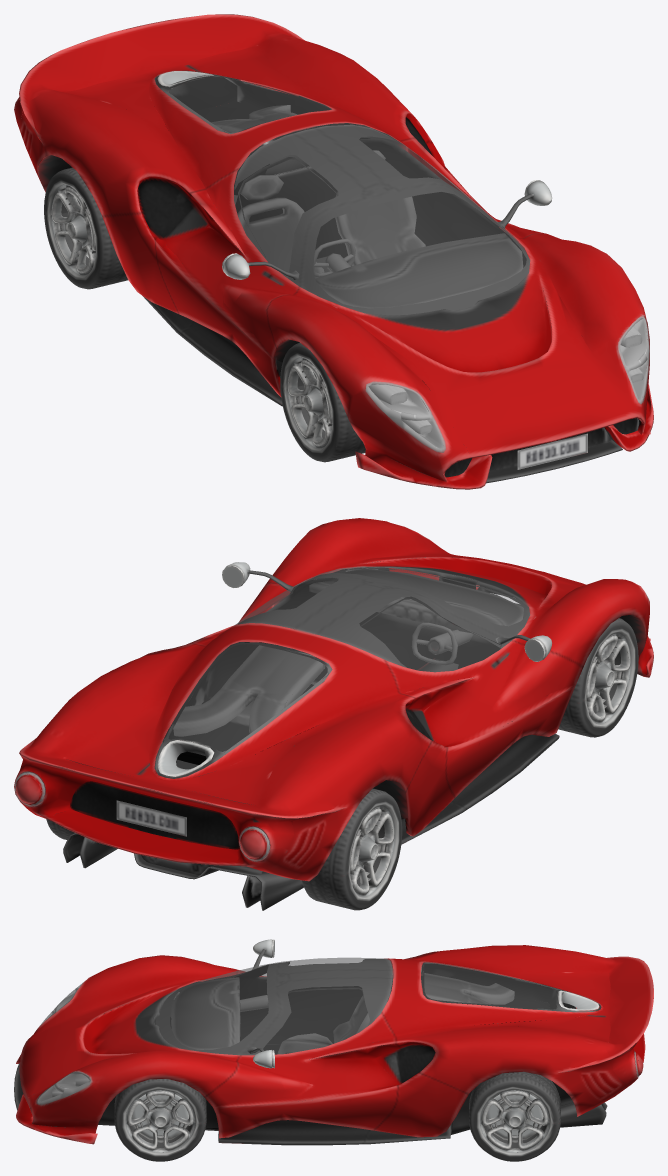
Rendered from de-tomaso-p72-lod1.glb.
3 renders of one model, top to bottom at view 1: azimuth 30°, elevation 25°; view 2: azimuth 150°, elevation 25°; view 3: azimuth 270°, elevation 25°, orthographic. The views are drawn at different scales.
Parts seen in each view (by area): view 1: Traffic_body, Traffic_RL, Traffic_FL; view 2: Traffic_body, Traffic_RL, Traffic_FL; view 3: Traffic_body, Traffic_RR, Traffic_FR.
Part boxes in pixels (<box>): Traffic_body: <box>14,14,653,489</box>; Traffic_RL: <box>44,167,127,289</box>; Traffic_FL: <box>280,342,365,462</box>; Traffic_body: <box>14,518,653,910</box>; Traffic_RL: <box>301,788,402,910</box>; Traffic_FL: <box>558,618,638,737</box>; Traffic_body: <box>14,939,653,1150</box>; Traffic_RR: <box>469,1071,560,1161</box>; Traffic_FR: <box>114,1079,206,1161</box>.
Bounding box in the file's own units: 1.99 × 1.06 × 4.55.
Materials: 1 (1 with a texture image).
